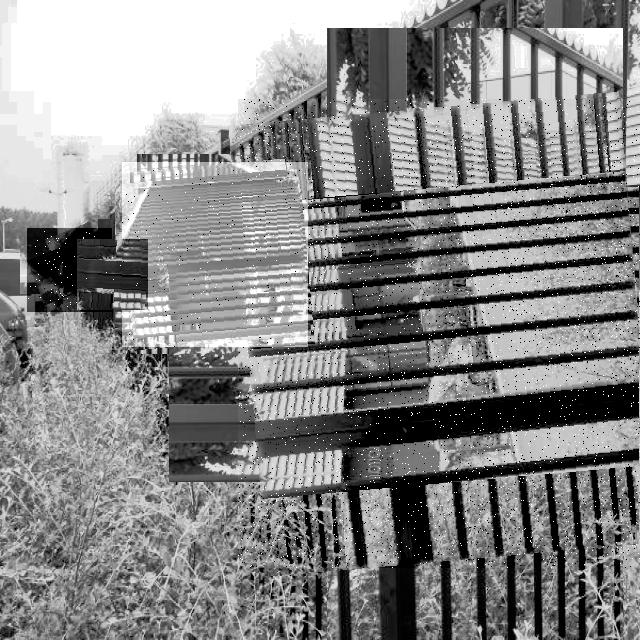fences: (238, 99, 640, 568), (122, 162, 308, 347), (27, 228, 112, 312), (77, 239, 148, 310)
